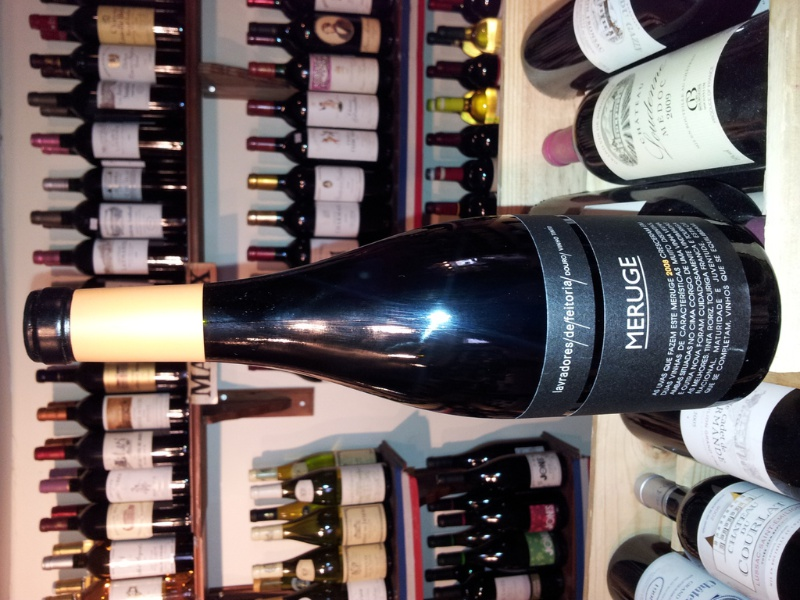wine: (13, 3, 796, 600), (13, 199, 782, 419)
